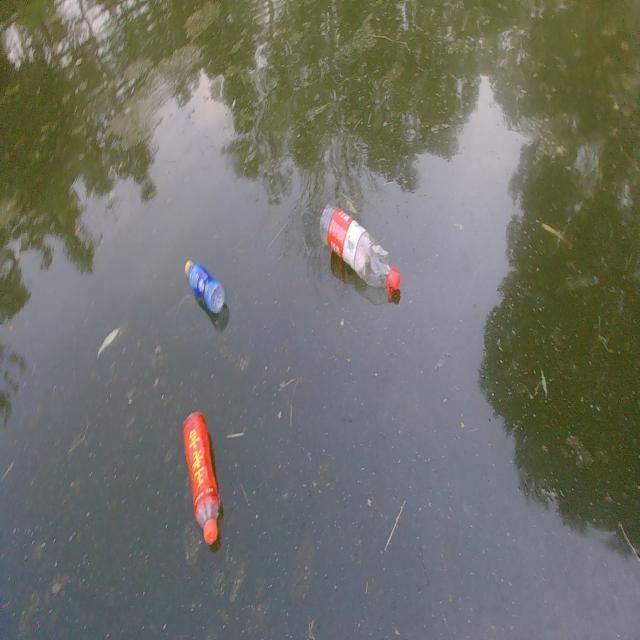bottle: (308, 170, 426, 320), (165, 380, 248, 561), (178, 244, 242, 330)
